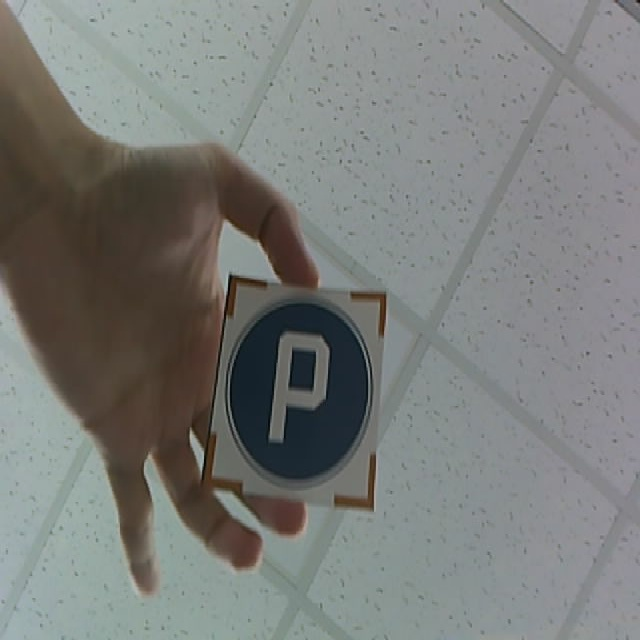parking: (202, 273, 386, 510)
